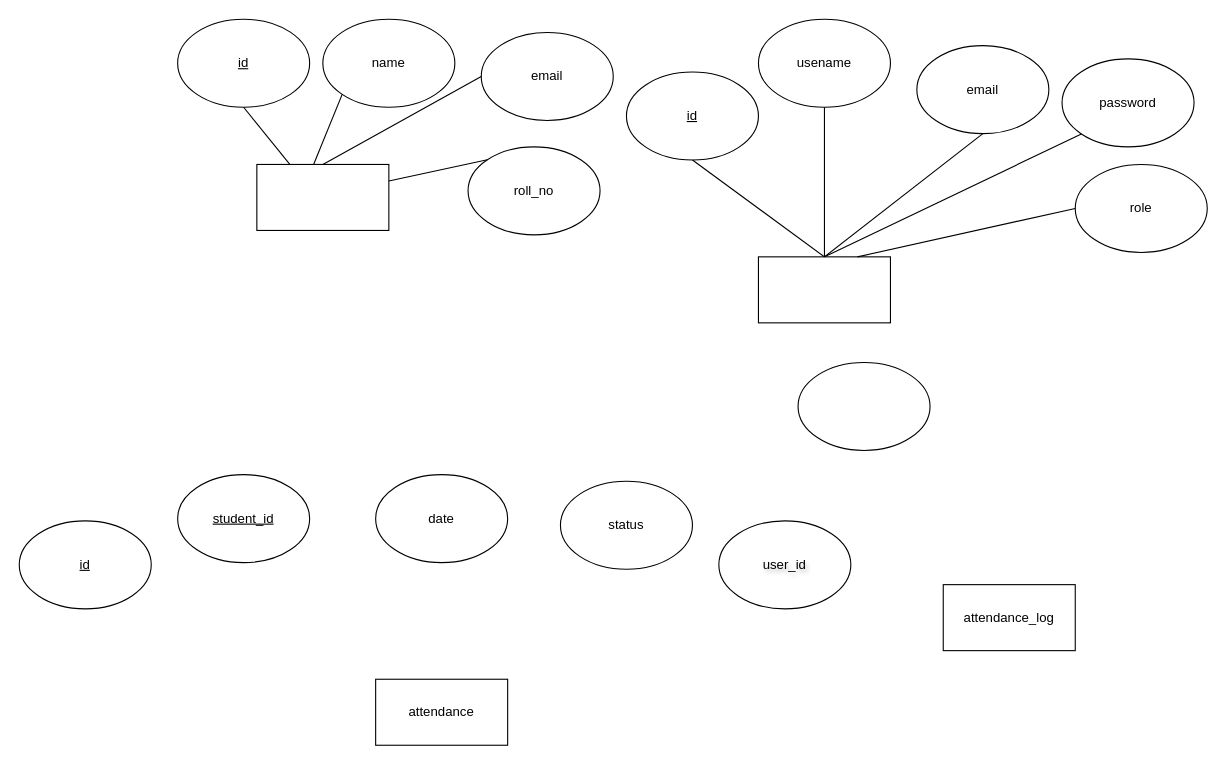
Some shapes in this 1227 by 765 pixel diagram are drawn without their labels. Here are the shapes that lost their labels. From the top down, the box of each, then its label:
(256, 163, 389, 230): students
(757, 256, 890, 323): users
